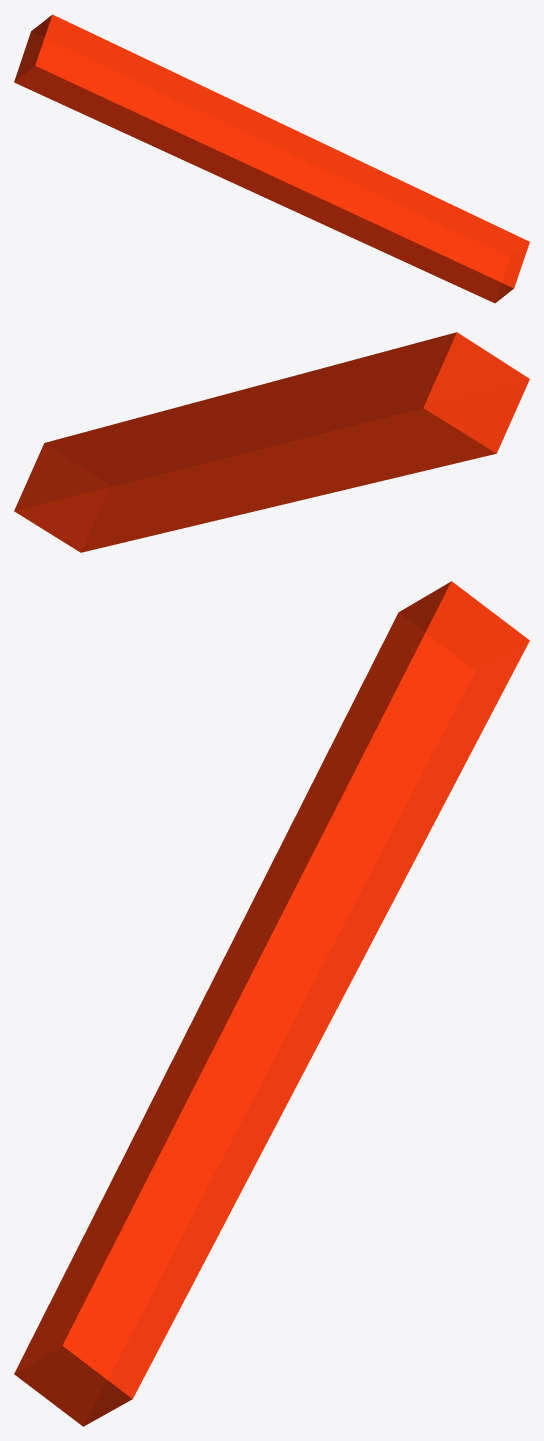
Rendered from Event_421115418_EBrechit_14.fbx.
3 renders of one model, top to bottom at view 1: azimuth 30°, elevation 25°; view 2: azimuth 150°, elevation 25°; view 3: azimuth 270°, elevation 25°, orthographic. The views are drawn at different scales.
Visible parts, largest first — view 1: Model; view 2: Model; view 3: Model.
Part boxes in pixels (x1,y1,x2,y2): Model: [14, 14, 529, 303]; Model: [14, 332, 529, 552]; Model: [14, 581, 529, 1426].
Size of the model in its own units: 0.5168 by 0.366 by 0.3154.
